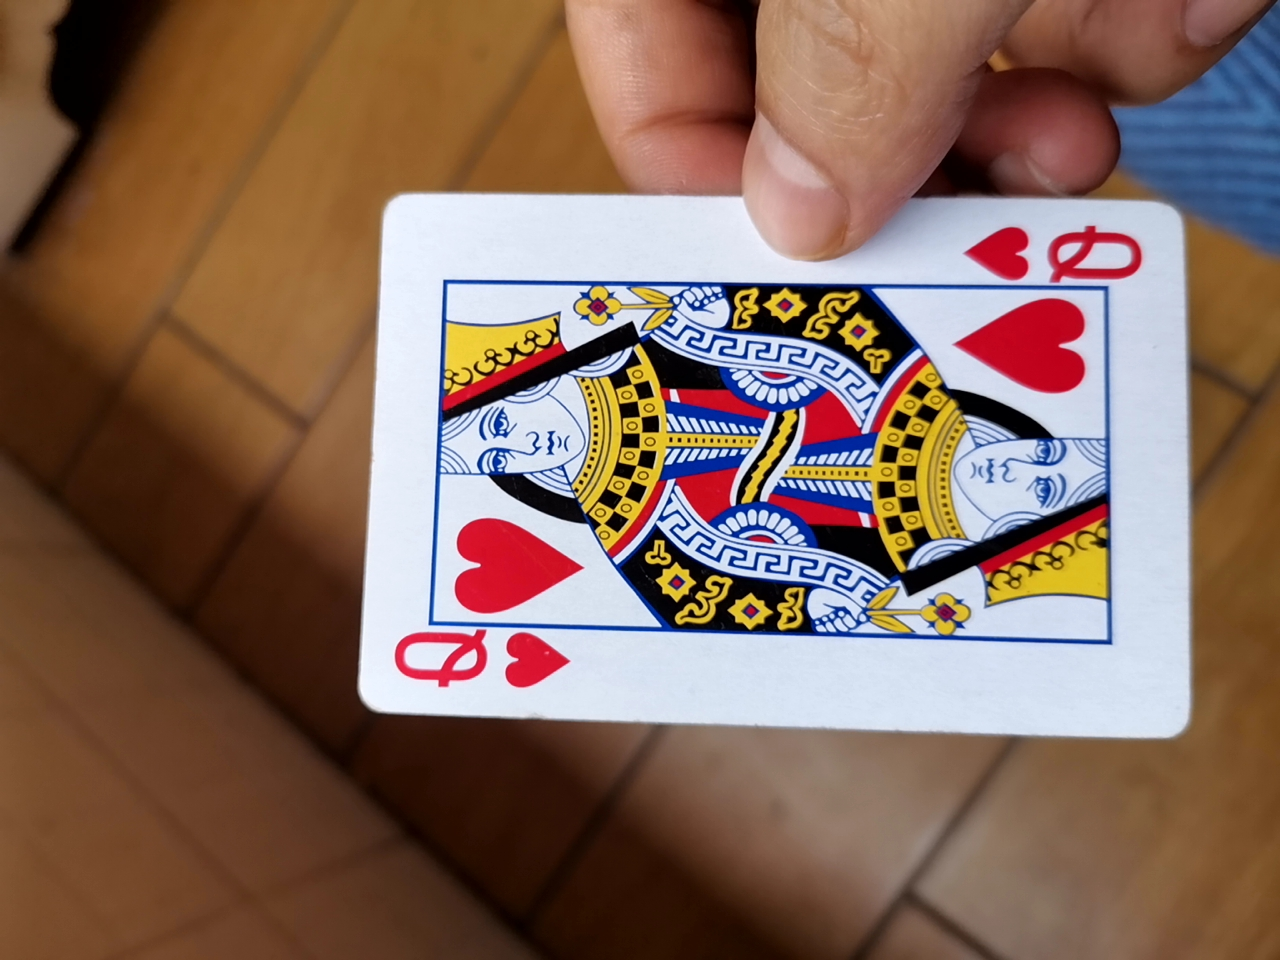hx q: (331, 178, 1196, 744)
